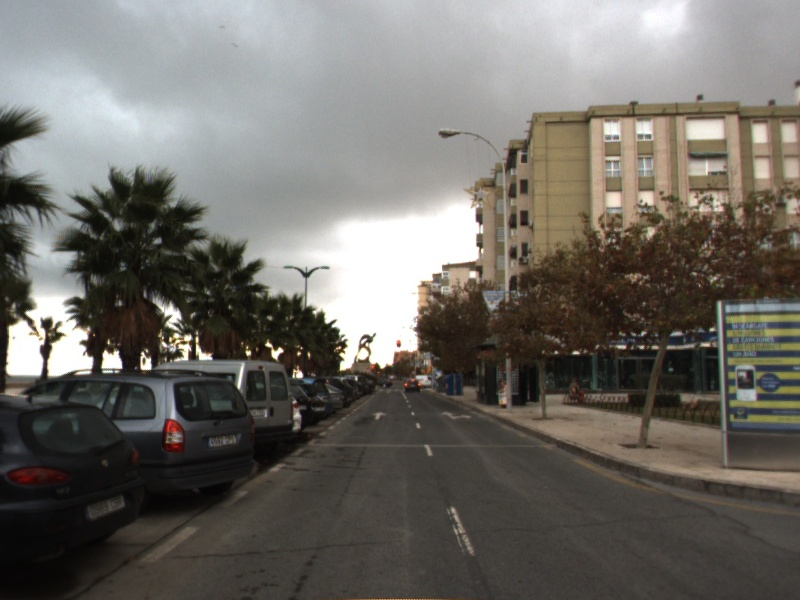STRAIGHT: (370, 410, 389, 421)
STRAIGHT_RIGHT: (439, 409, 473, 422)
